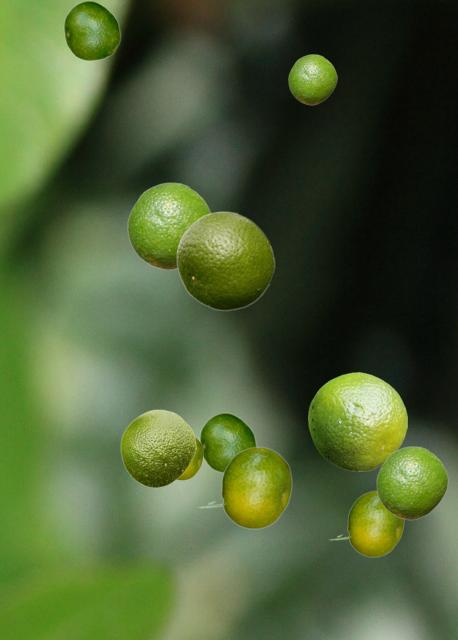calamansi: (176, 210, 274, 310), (308, 372, 406, 470), (197, 446, 291, 528), (127, 182, 211, 269), (120, 409, 195, 487), (376, 446, 447, 519), (328, 490, 403, 556), (63, 0, 120, 60), (199, 412, 256, 472), (288, 54, 336, 104), (178, 437, 202, 479)
